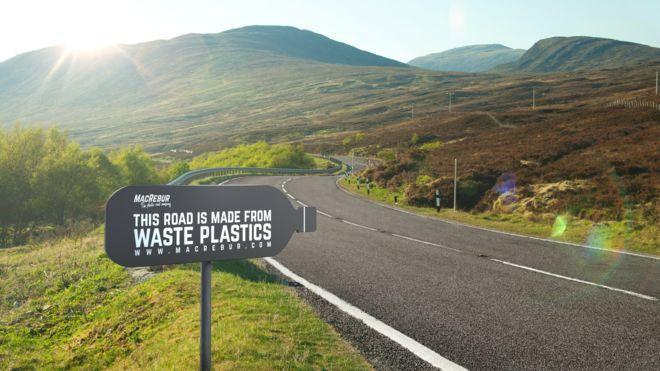indicator: (107, 188, 290, 262)
light: (44, 0, 133, 71)
